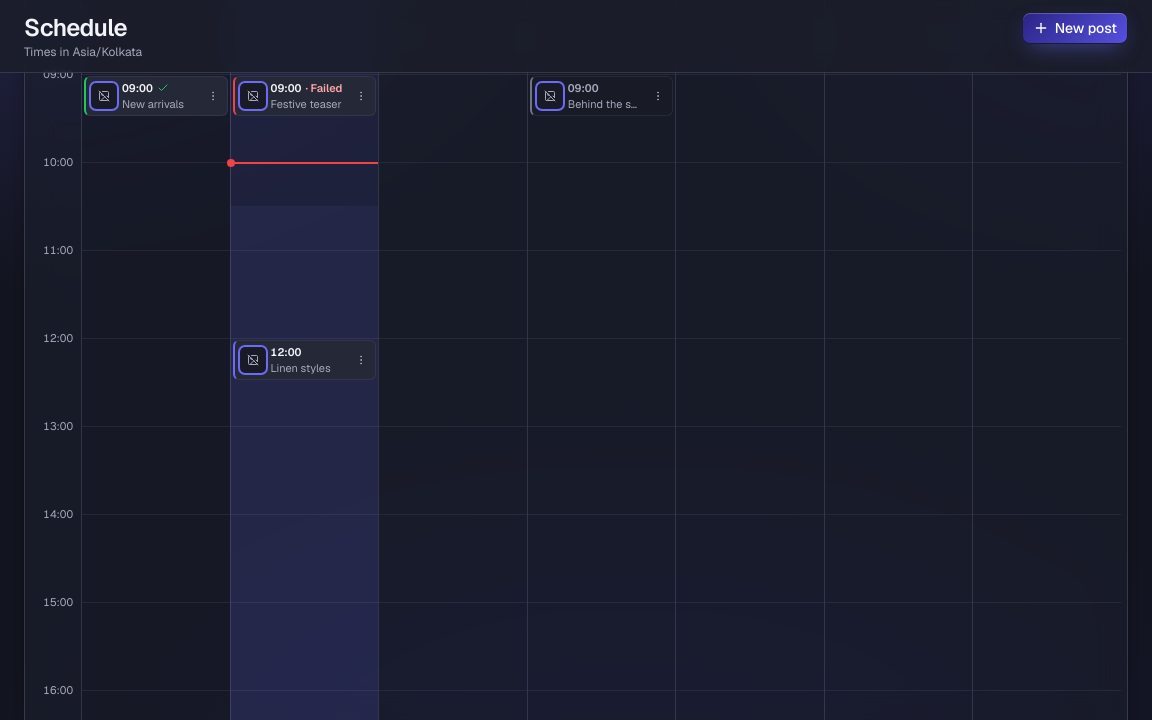
Test: Schedule page: Week (UX-SCR-04, FR-PUB-08) › "Move to…" refuses a time less than 5 minutes away and says so
The width and height of the screenshot is (1152, 720).
(page scrolled)
Click the button named "Actions for Linen styles": (361, 360) [349,348,373,372]
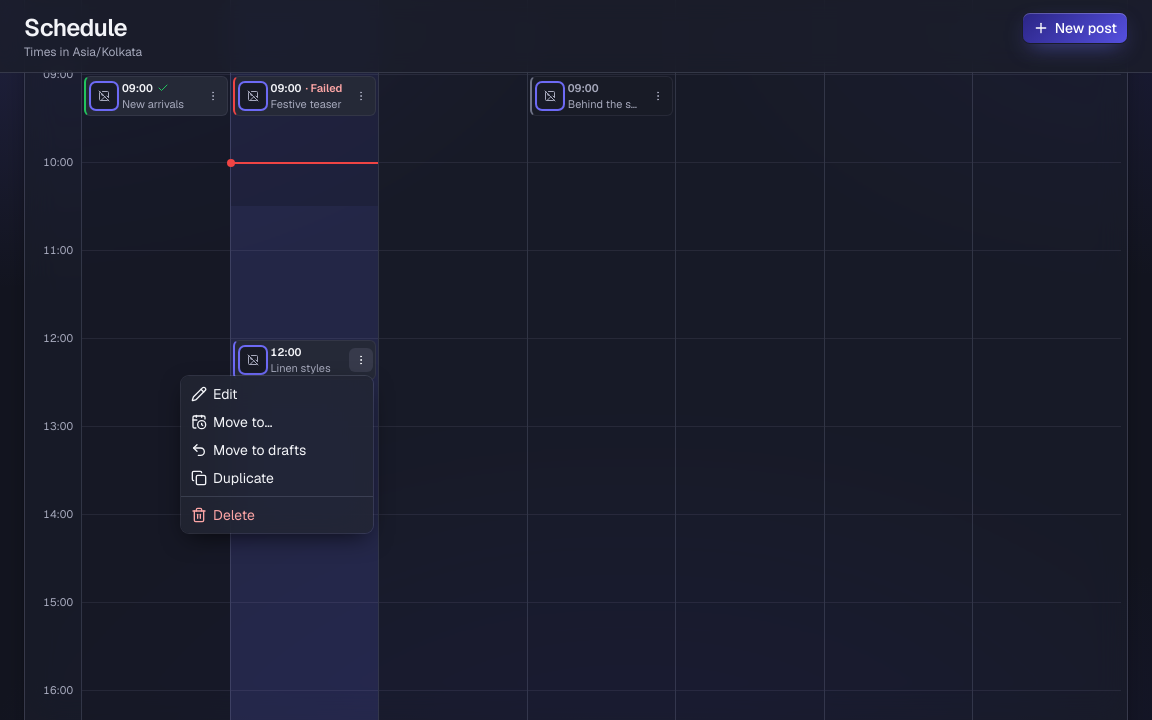
Click the menu item "Move to…": (232, 422) [191,413,273,431]
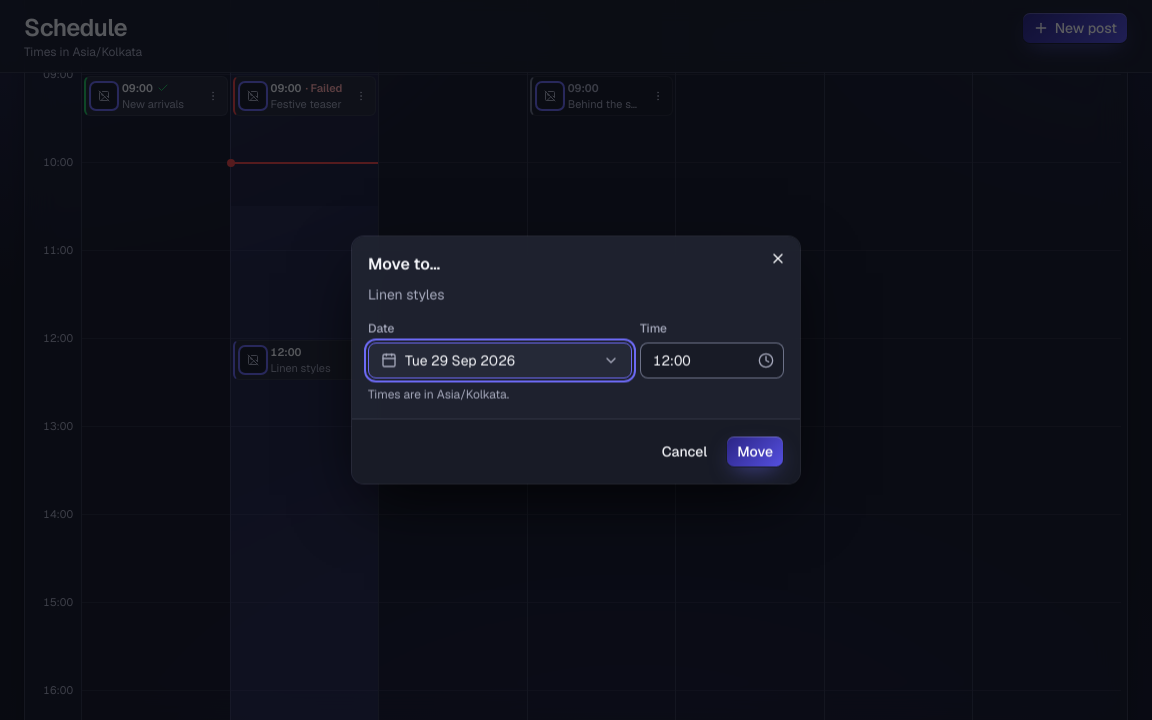
Replace the text in the field labelled "Time" with "10:02": (712, 360) [640,342,784,378]
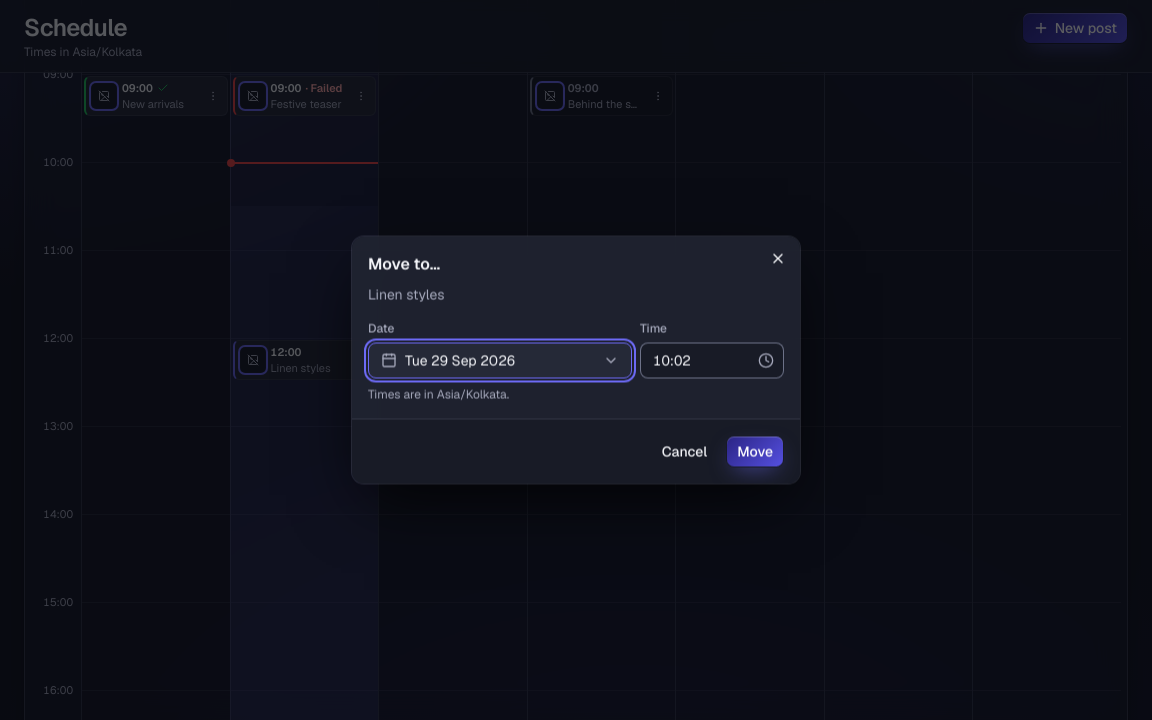
Click the button "Move": (755, 452) [726,436,784,468]
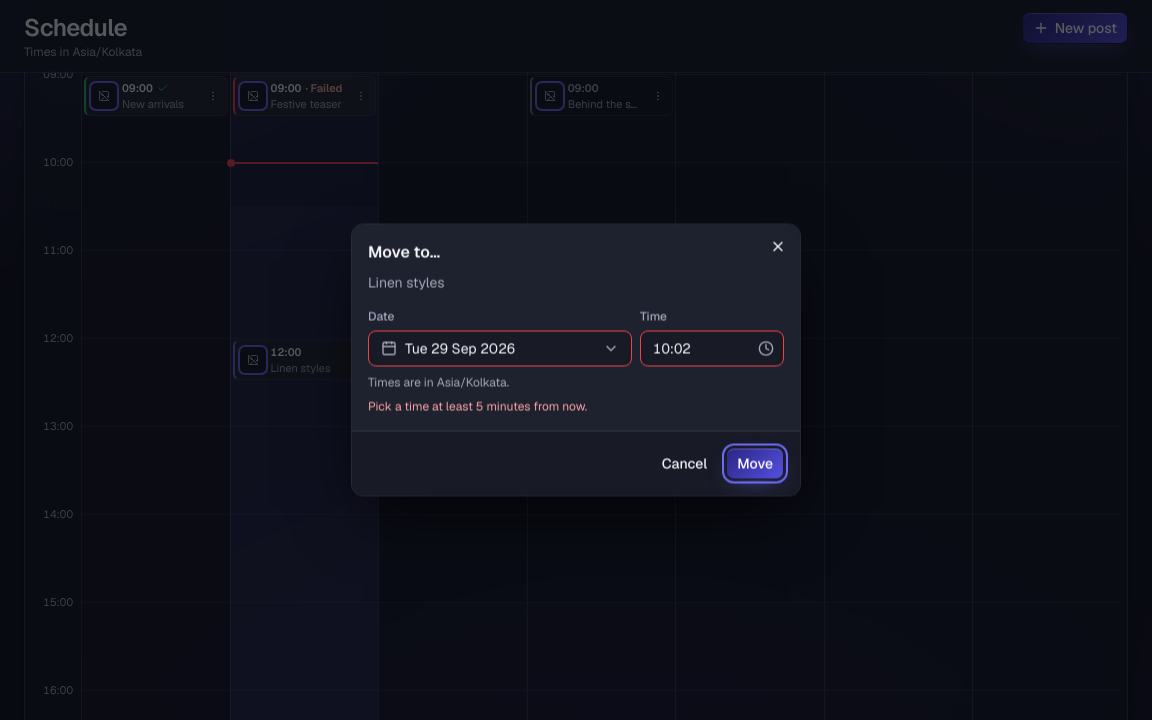
Result: the message reads "Pick a time at least 5 minutes from now." at [368,398,587,414]
